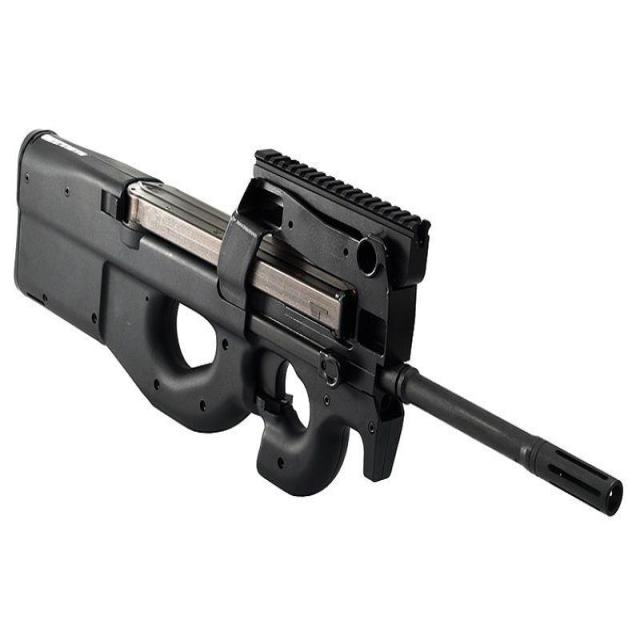SMG: (13, 129, 625, 518)
